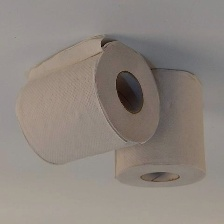tissue: (10, 30, 164, 169), (109, 63, 211, 193)
